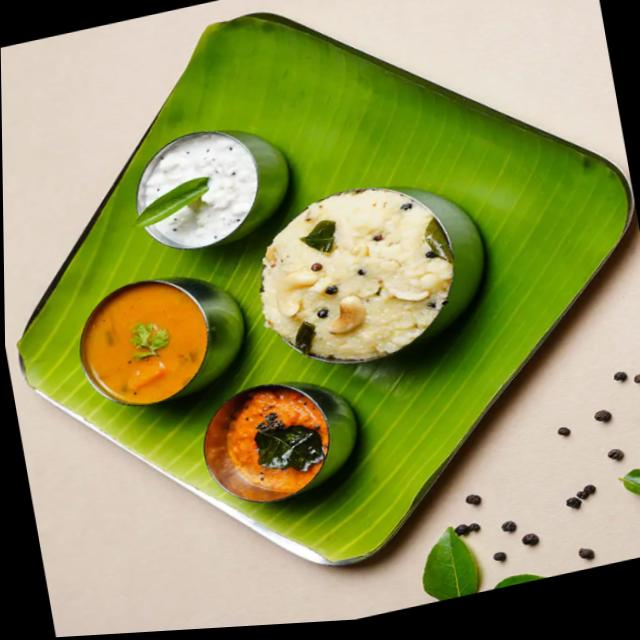PONGAL: (260, 189, 452, 358)
RED CHUTNEY: (224, 386, 329, 492)
SAMBAR: (85, 283, 207, 404)
WHITE CHUTNEY: (145, 135, 258, 243)
